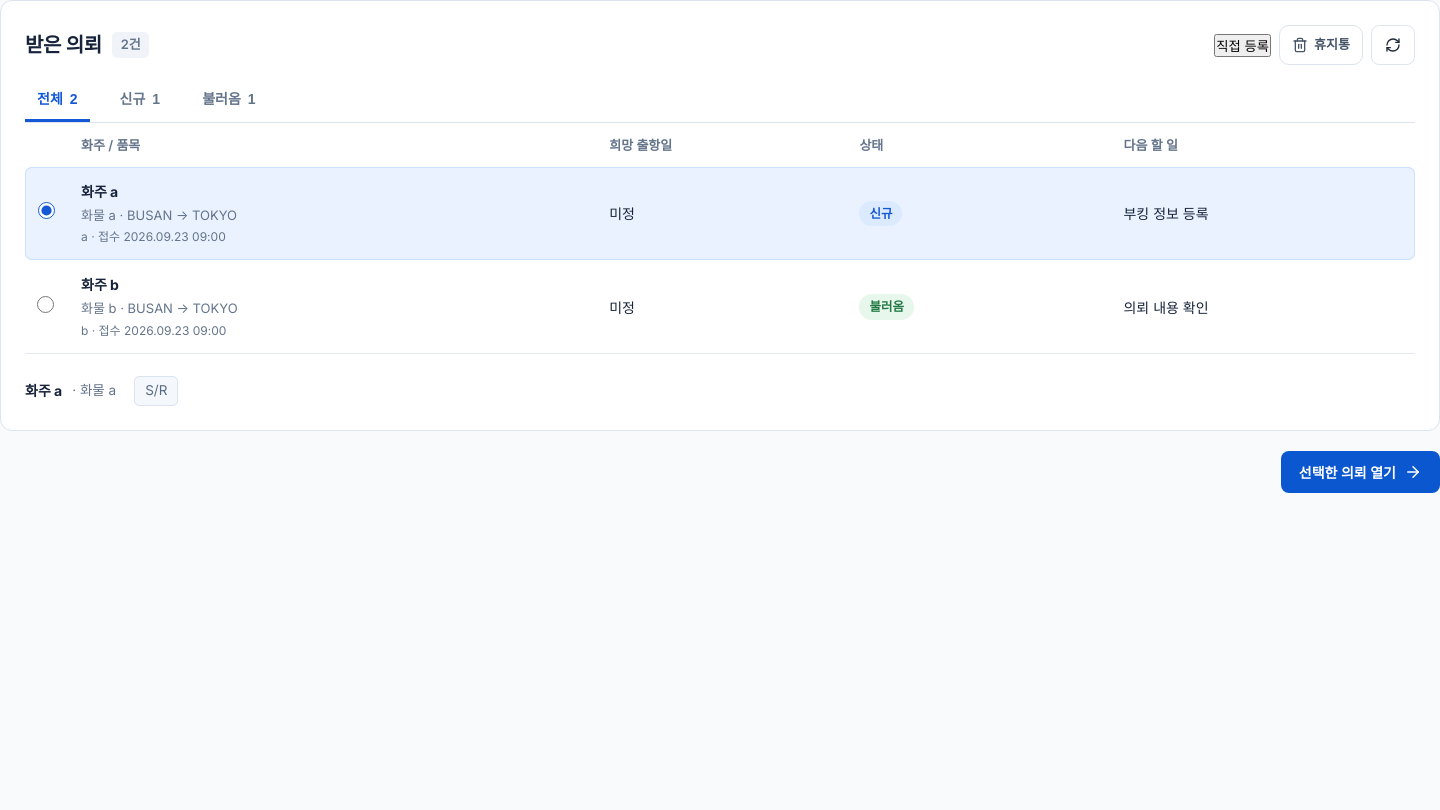
Test case: 받은 수출 의뢰 — 왼쪽으로 밀어 목록에서 삭제 › 휴지통의 [모두 복원]은 지운 의뢰를 전부 되돌린다
Press the mouse on the row that starts with "화주 a" at (720, 213), box [25, 166, 1415, 260]
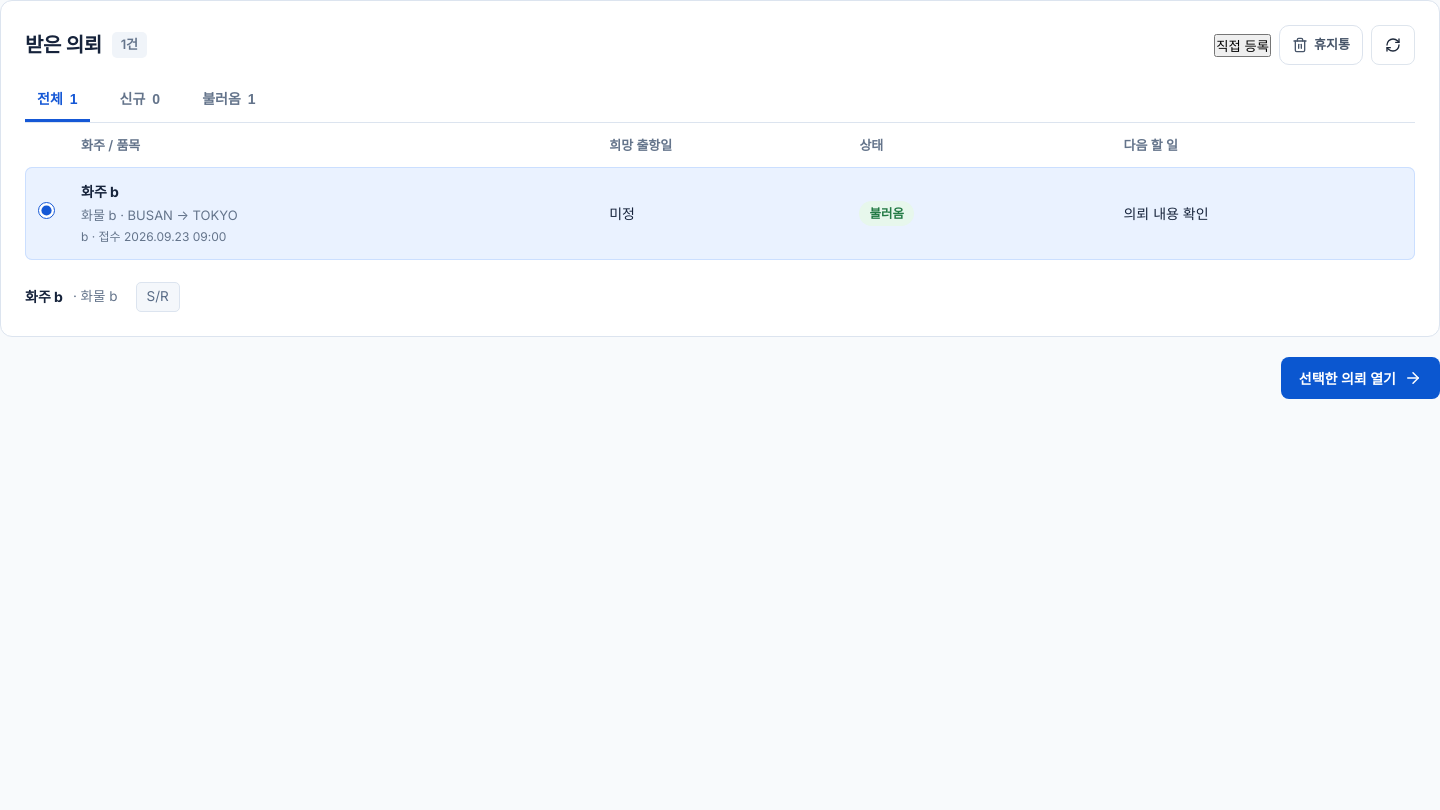
Press the mouse on the row that starts with "화주 b" at (720, 213), box [25, 166, 1415, 260]
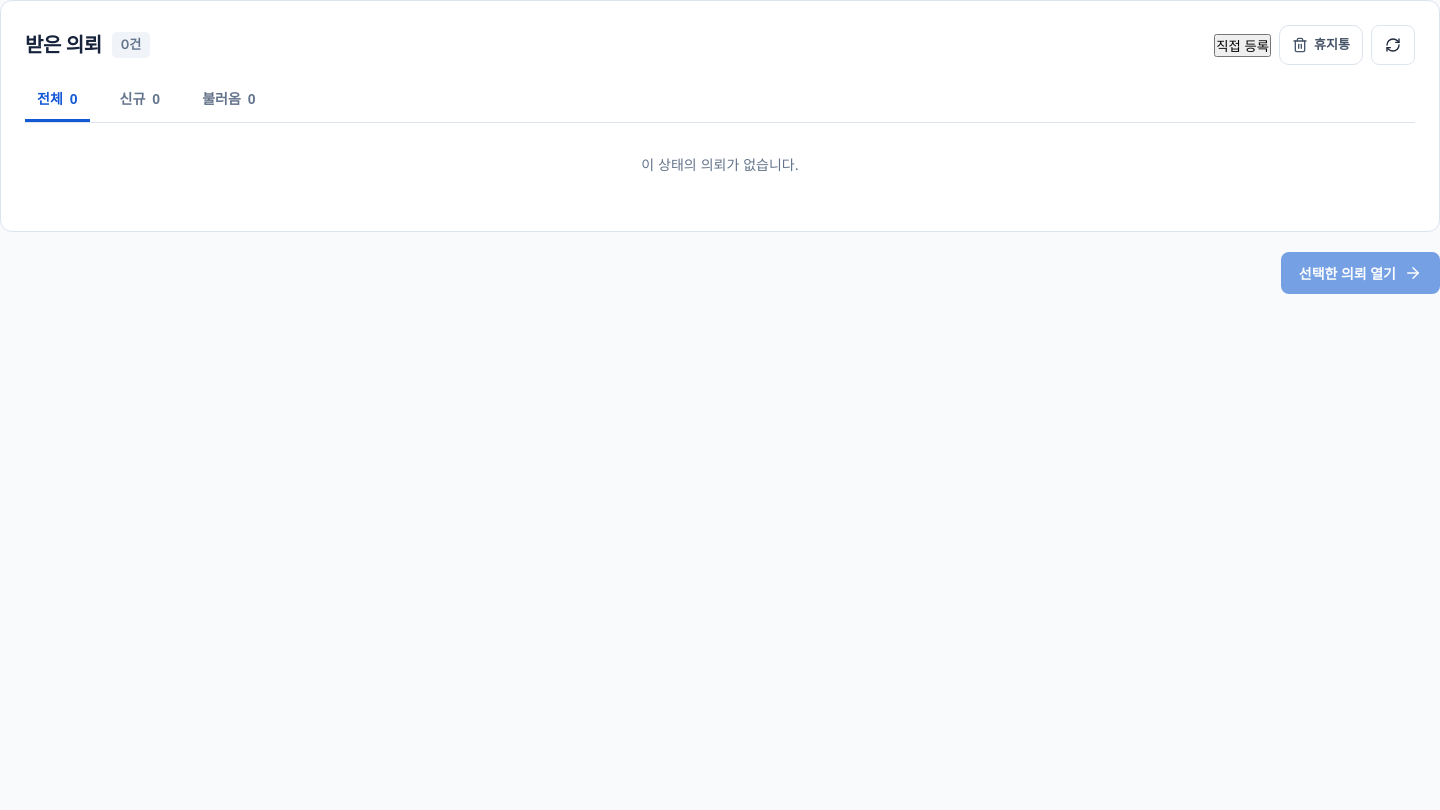
Click the button with class "trash-open" at (1321, 45), box [1279, 25, 1363, 65]
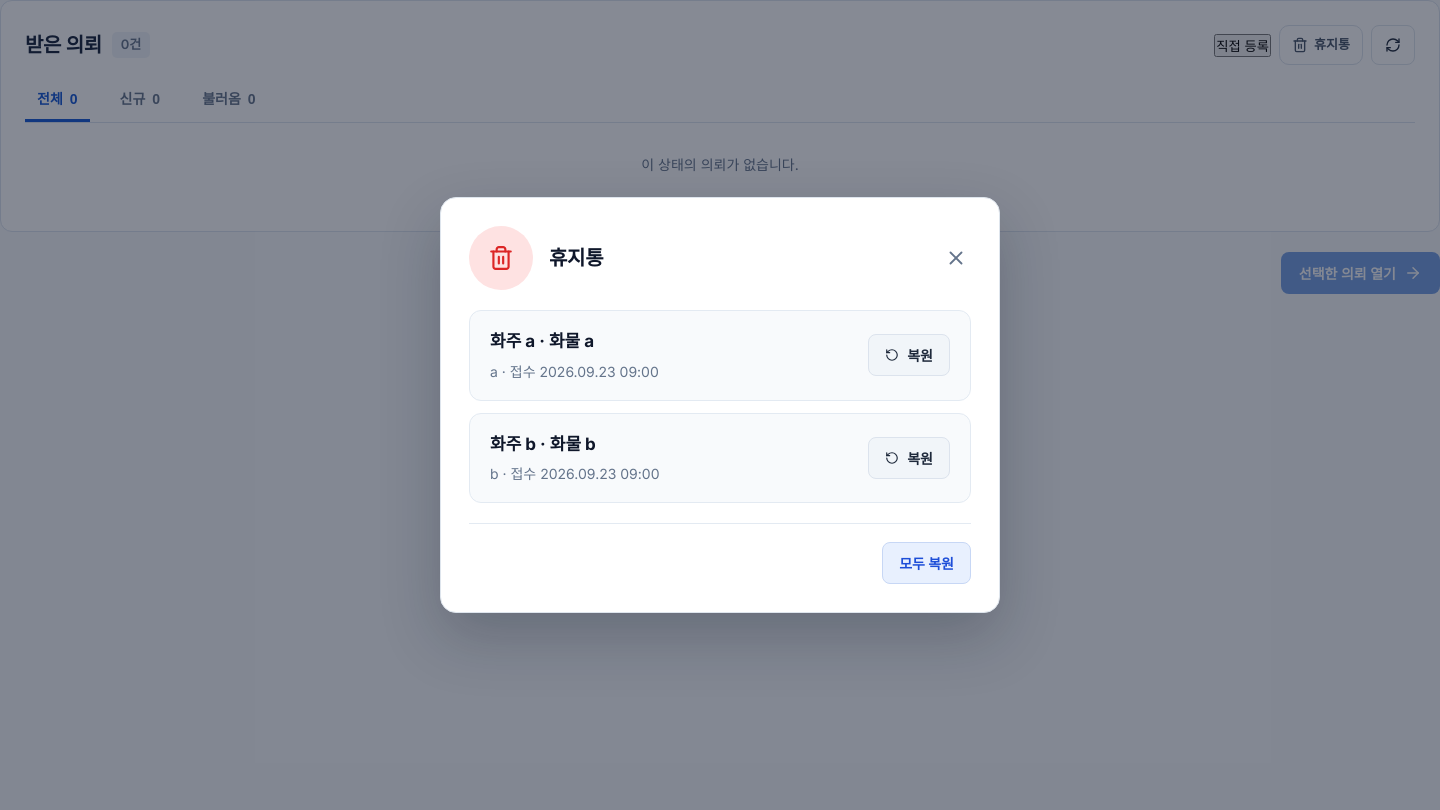
Click the button "모두 복원" at (927, 563), box [882, 542, 971, 584]
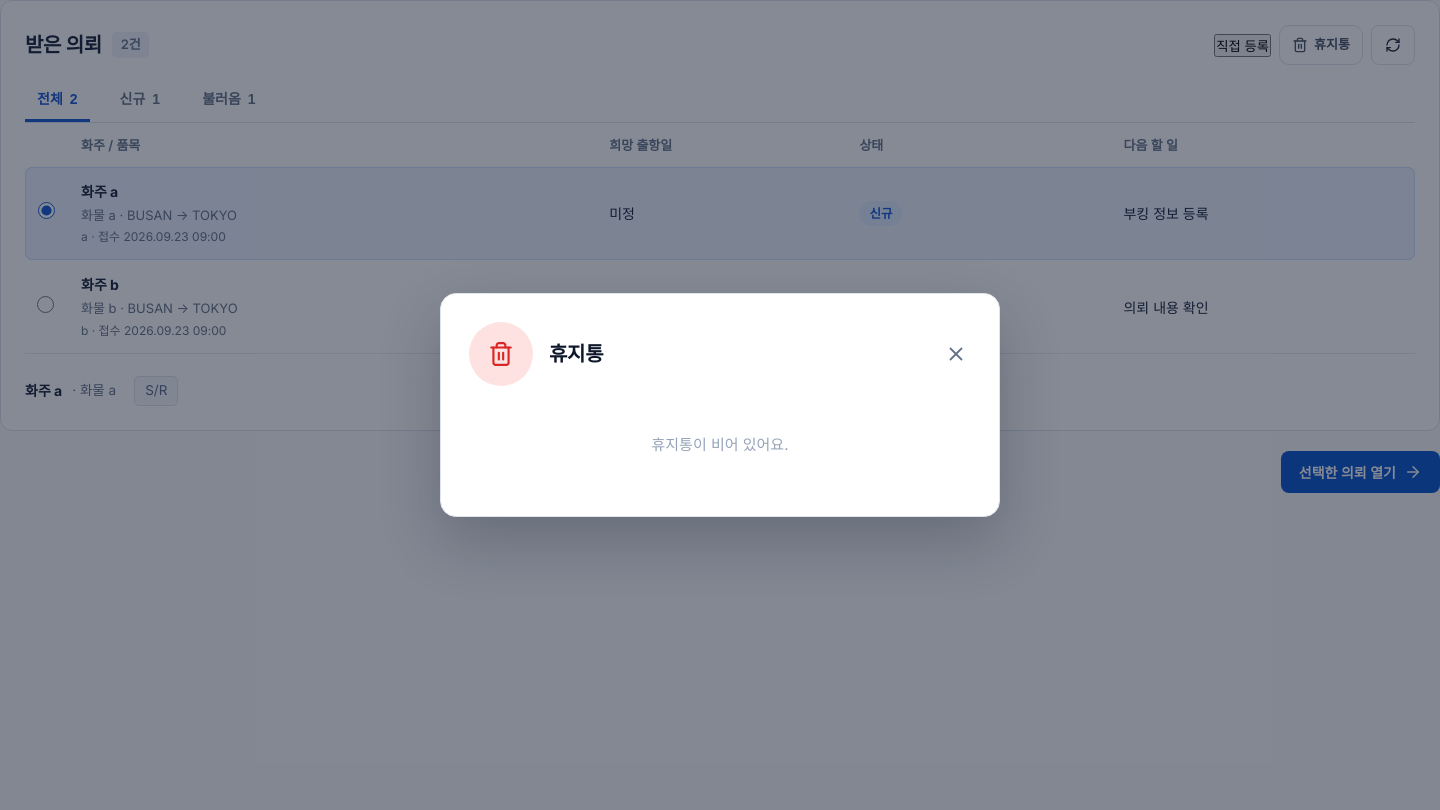
Check: the text "휴지통이 비어 있어요." is shown, box [652, 435, 788, 454]
